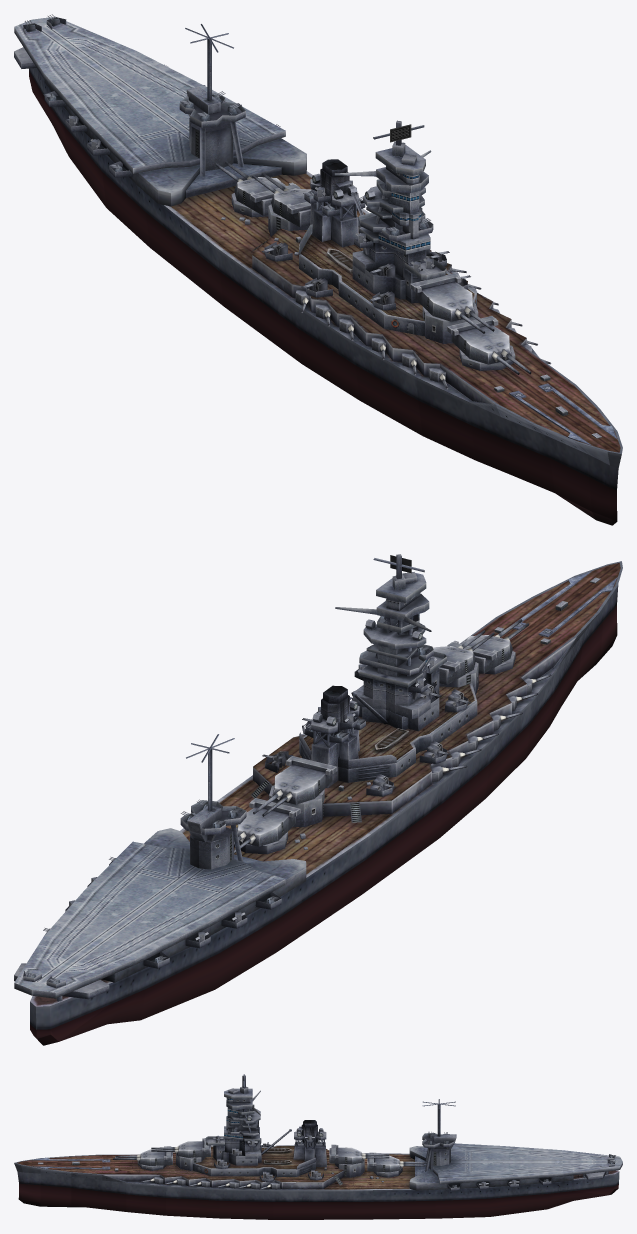
The model's file is IseAir.fbx.
3 views of the same model, one above another, from view 1: azimuth 30°, elevation 25°; view 2: azimuth 150°, elevation 25°; view 3: azimuth 270°, elevation 25° (orthographic). The views are drawn at different scales.
Parts seen in each view (by area): view 1: Body, M_Cannon02, M_Cannon01, M_Cannon04, M_Cannon03; view 2: Body, M_Cannon03, M_Cannon04, M_Cannon01, M_Cannon02; view 3: Body, M_Cannon03, M_Cannon02, M_Cannon04, M_Cannon01.
Part boxes in pixels (left/top/right/bottom): Body: left=14, top=16, right=622, bottom=525; M_Cannon02: left=410, top=273, right=475, bottom=321; M_Cannon01: left=447, top=316, right=512, bottom=364; M_Cannon04: left=234, top=177, right=299, bottom=215; M_Cannon03: left=271, top=188, right=315, bottom=227; Body: left=14, top=554, right=622, bottom=1045; M_Cannon03: left=272, top=756, right=337, bottom=804; M_Cannon04: left=237, top=798, right=300, bottom=846; M_Cannon01: left=447, top=635, right=512, bottom=673; M_Cannon02: left=433, top=646, right=475, bottom=684; Body: left=14, top=1074, right=622, bottom=1219; M_Cannon03: left=329, top=1144, right=363, bottom=1164; M_Cannon02: left=177, top=1138, right=210, bottom=1157; M_Cannon04: left=367, top=1152, right=401, bottom=1172; M_Cannon01: left=139, top=1146, right=172, bottom=1165.
Size of the model in its own units: 35.56 by 51.1 by 214.
1 material, 1 textured.
